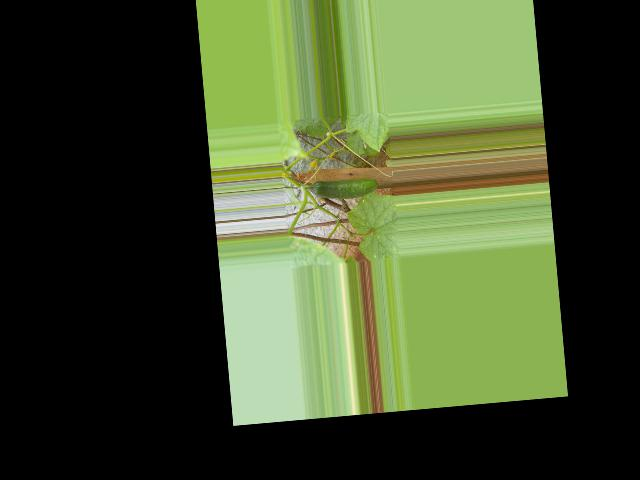cucumber: (311, 175, 379, 201)
